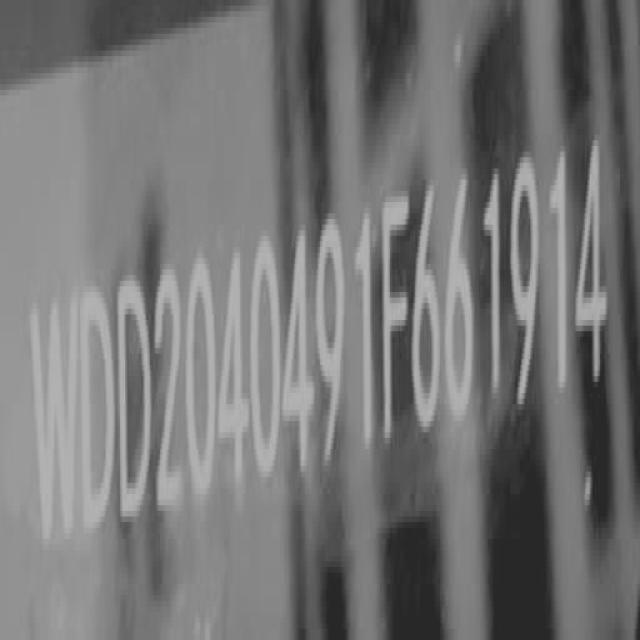0: (188, 251, 220, 513), (251, 235, 283, 494)
1: (350, 191, 380, 478), (478, 153, 504, 430), (547, 142, 573, 408)
2: (154, 264, 187, 522)
4: (572, 150, 614, 400), (282, 215, 319, 492), (216, 240, 250, 503)
6: (443, 164, 479, 438), (412, 174, 444, 452)
9: (507, 146, 545, 420), (314, 210, 347, 485)
D: (80, 283, 118, 542), (117, 273, 154, 533)
F: (382, 178, 416, 460)
W: (27, 291, 77, 552)
